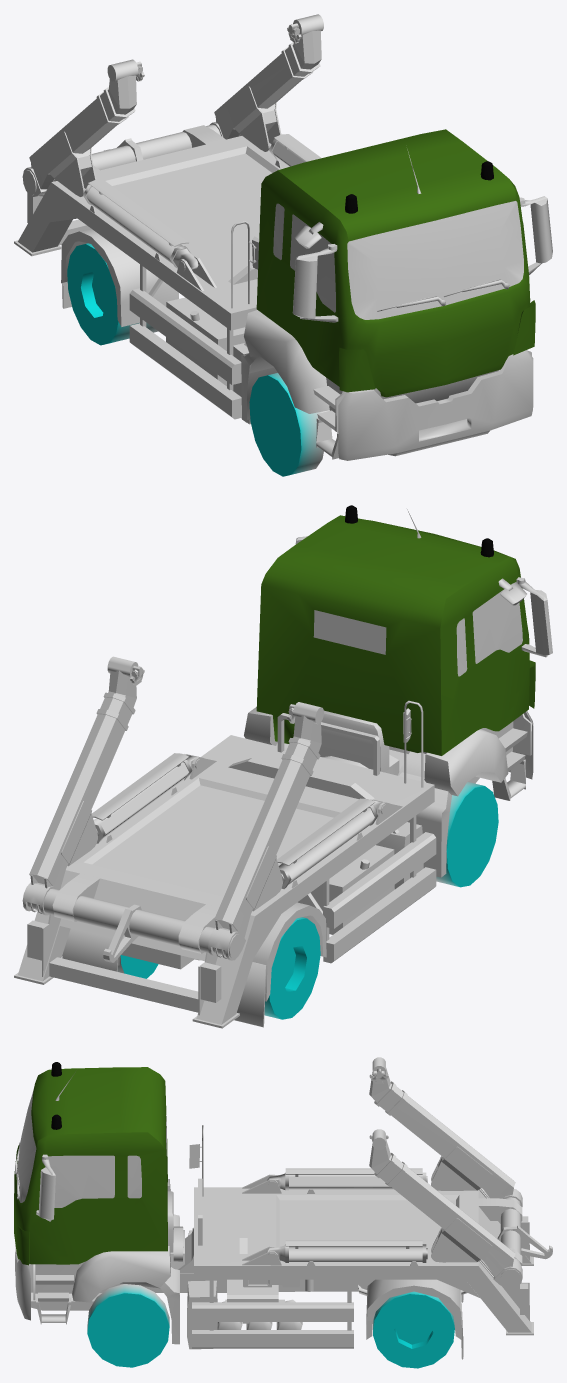
Rendered from DepositTipper_IOS.fbx.
The picture shows the model from 3 angles, top to bottom: view 1: azimuth 30°, elevation 25°; view 2: azimuth 150°, elevation 25°; view 3: azimuth 270°, elevation 25°; orthographic projection. The views are drawn at different scales.
Visible parts, largest first — view 1: Body, windows, wheels; view 2: Body, wheels, windows; view 3: Body, wheels, windows.
Boxes of the visible parts, x1=… form: Body: x1=14, y1=14, x2=552, y2=460; windows: x1=273, y1=201, x2=523, y2=319; wheels: x1=67, y1=243, x2=323, y2=476; Body: x1=14, y1=505, x2=552, y2=1028; wheels: x1=117, y1=782, x2=498, y2=1019; windows: x1=313, y1=582, x2=522, y2=676; Body: x1=14, y1=1057, x2=552, y2=1359; wheels: x1=87, y1=1284, x2=454, y2=1368; windows: x1=16, y1=1091, x2=166, y2=1207.
Bounding box in the file's own units: 0.028 × 0.034 × 0.0637.
